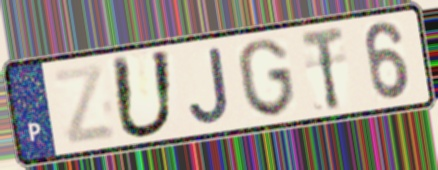6: (362, 19, 412, 102)
G: (235, 35, 299, 120)
J: (186, 44, 233, 127)
T: (298, 23, 347, 114)
U: (108, 47, 179, 142)
Z: (50, 60, 120, 148)
